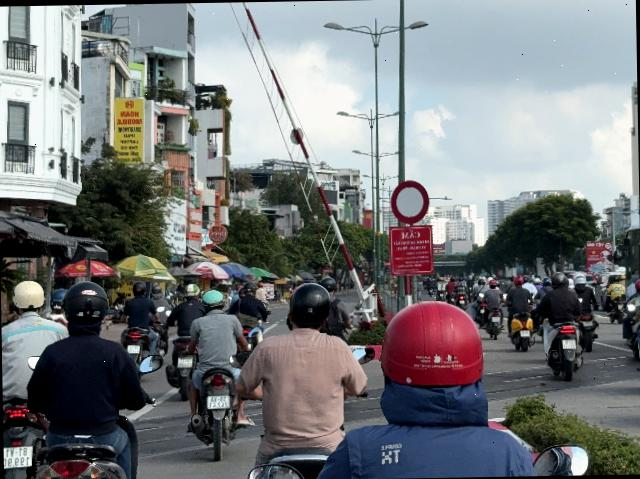duong-cam: (390, 180, 430, 224)
